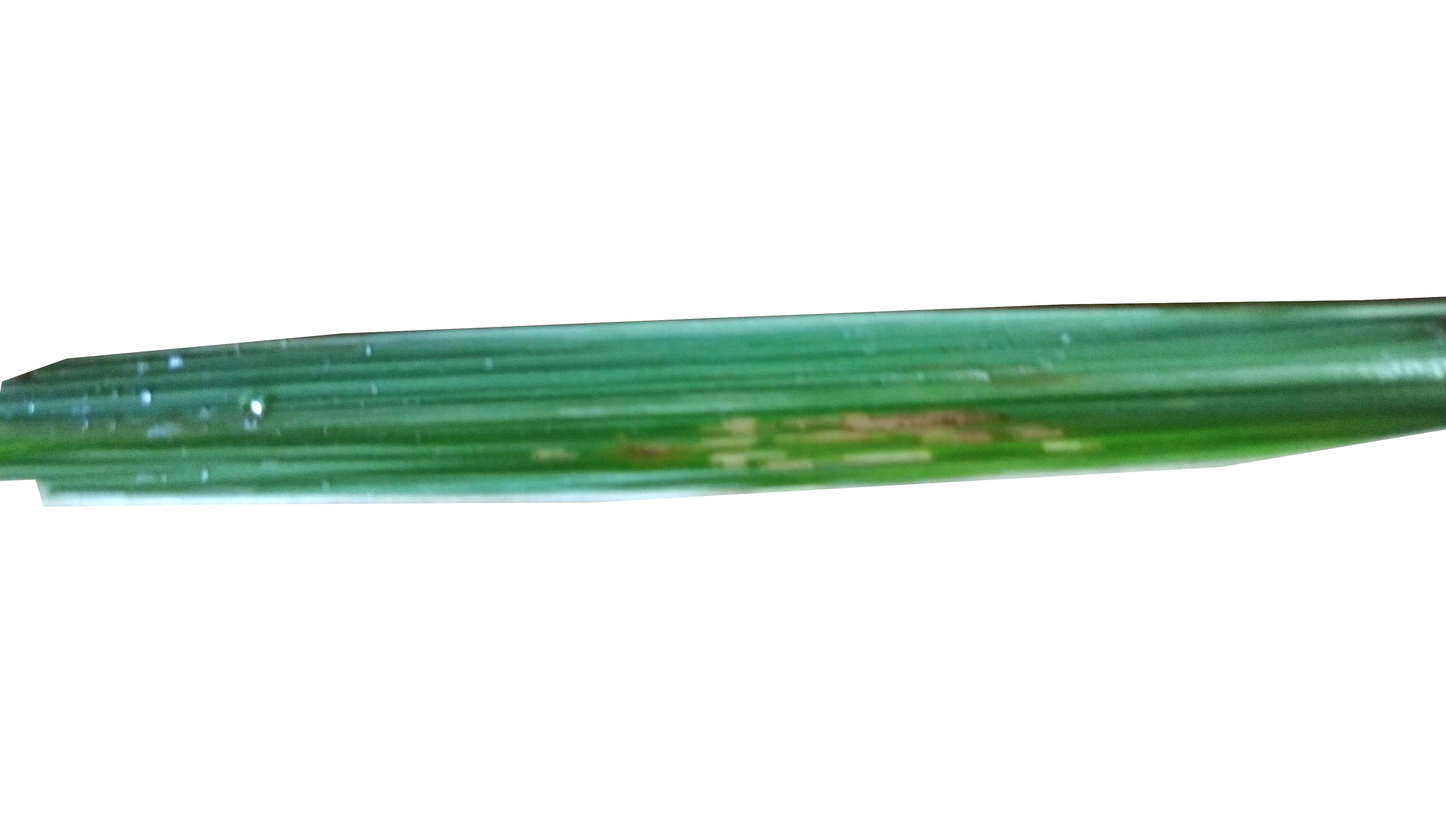Blight: (848, 375, 1088, 464), (579, 412, 699, 486)
